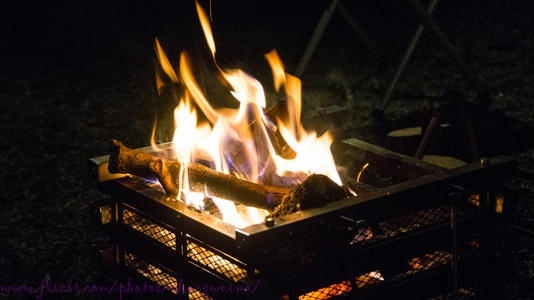fire: (107, 4, 353, 263)
